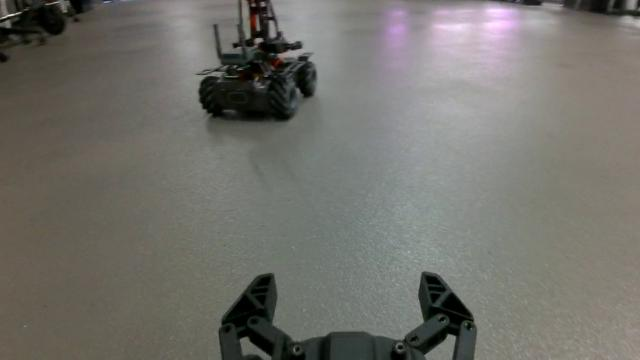robot: (195, 0, 318, 121)
